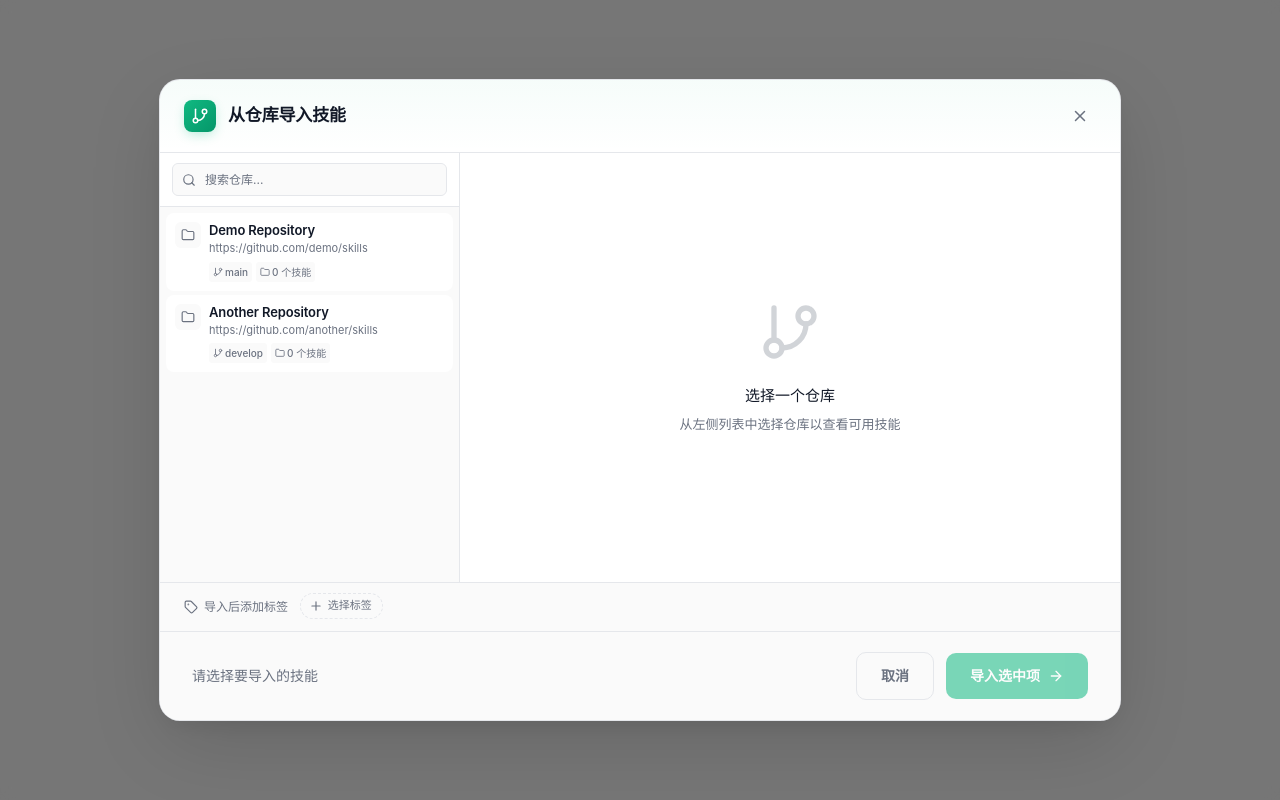
it: RepositorySelectDialog › toggles skill selection with checkbox
The image size is (1280, 800).
Click the button "Demo Repository https://github.com/demo/skills main 0 个技能" at (310, 252), box [166,213,453,291]
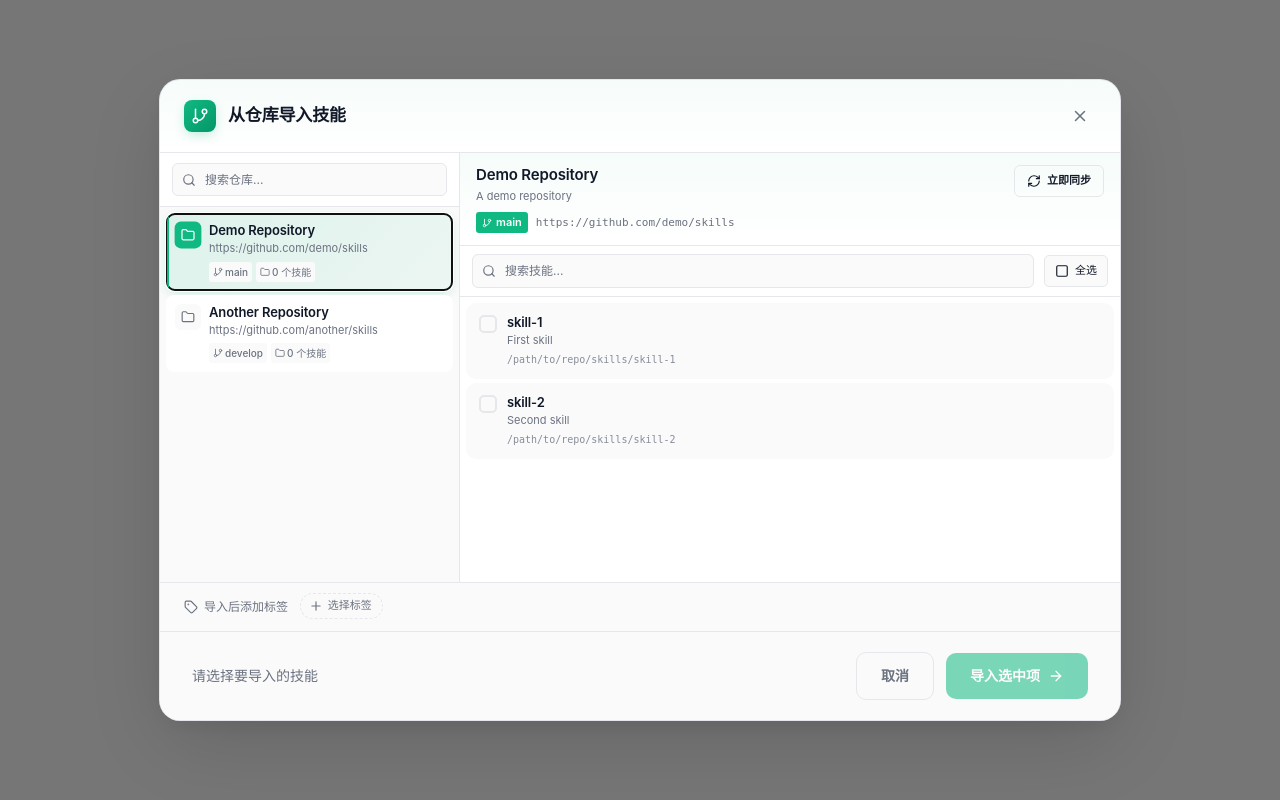
Expected: the text "skill-1" is shown, [507,314,542,330]
Click the button "skill-1 First skill /path/to/repo/skills/skill-1" at (525, 322), box [466,303,1114,379]
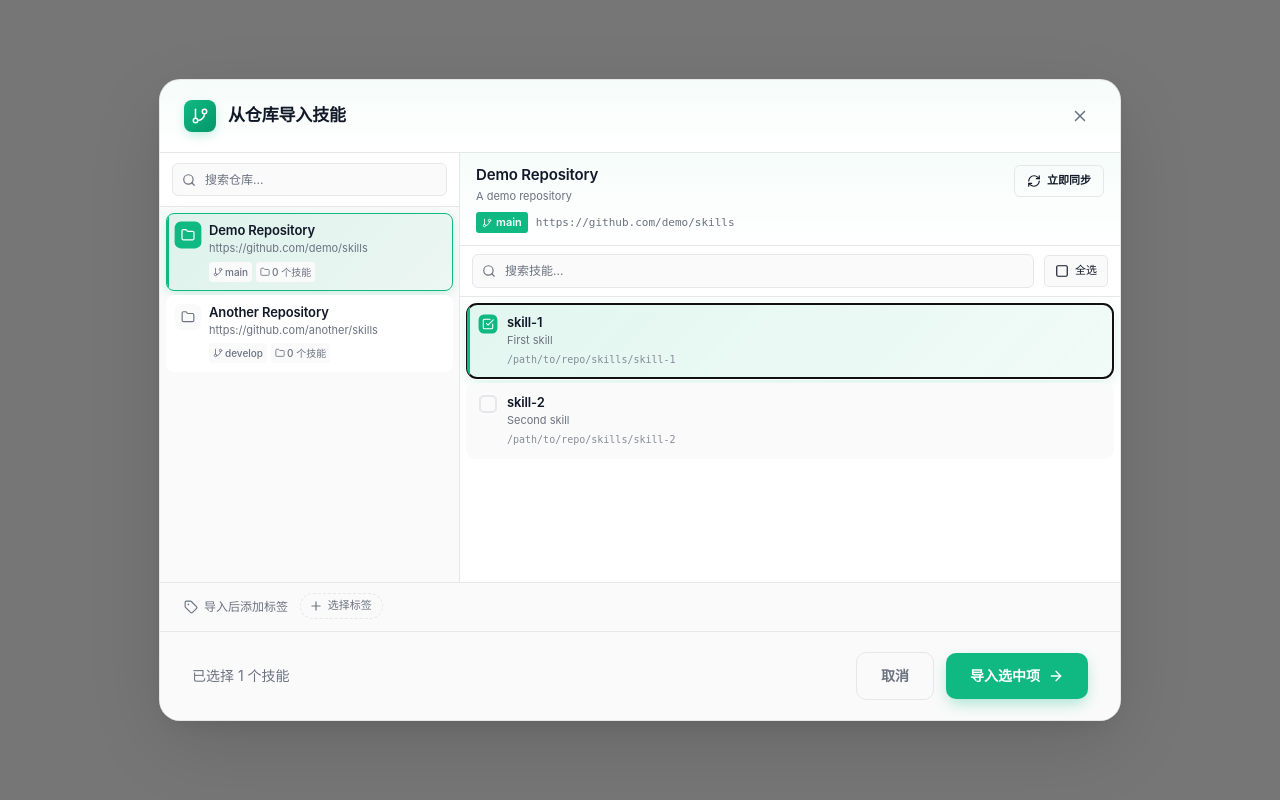
Expected: the text "已选择 1 个技能" is shown, [192,665,290,687]
